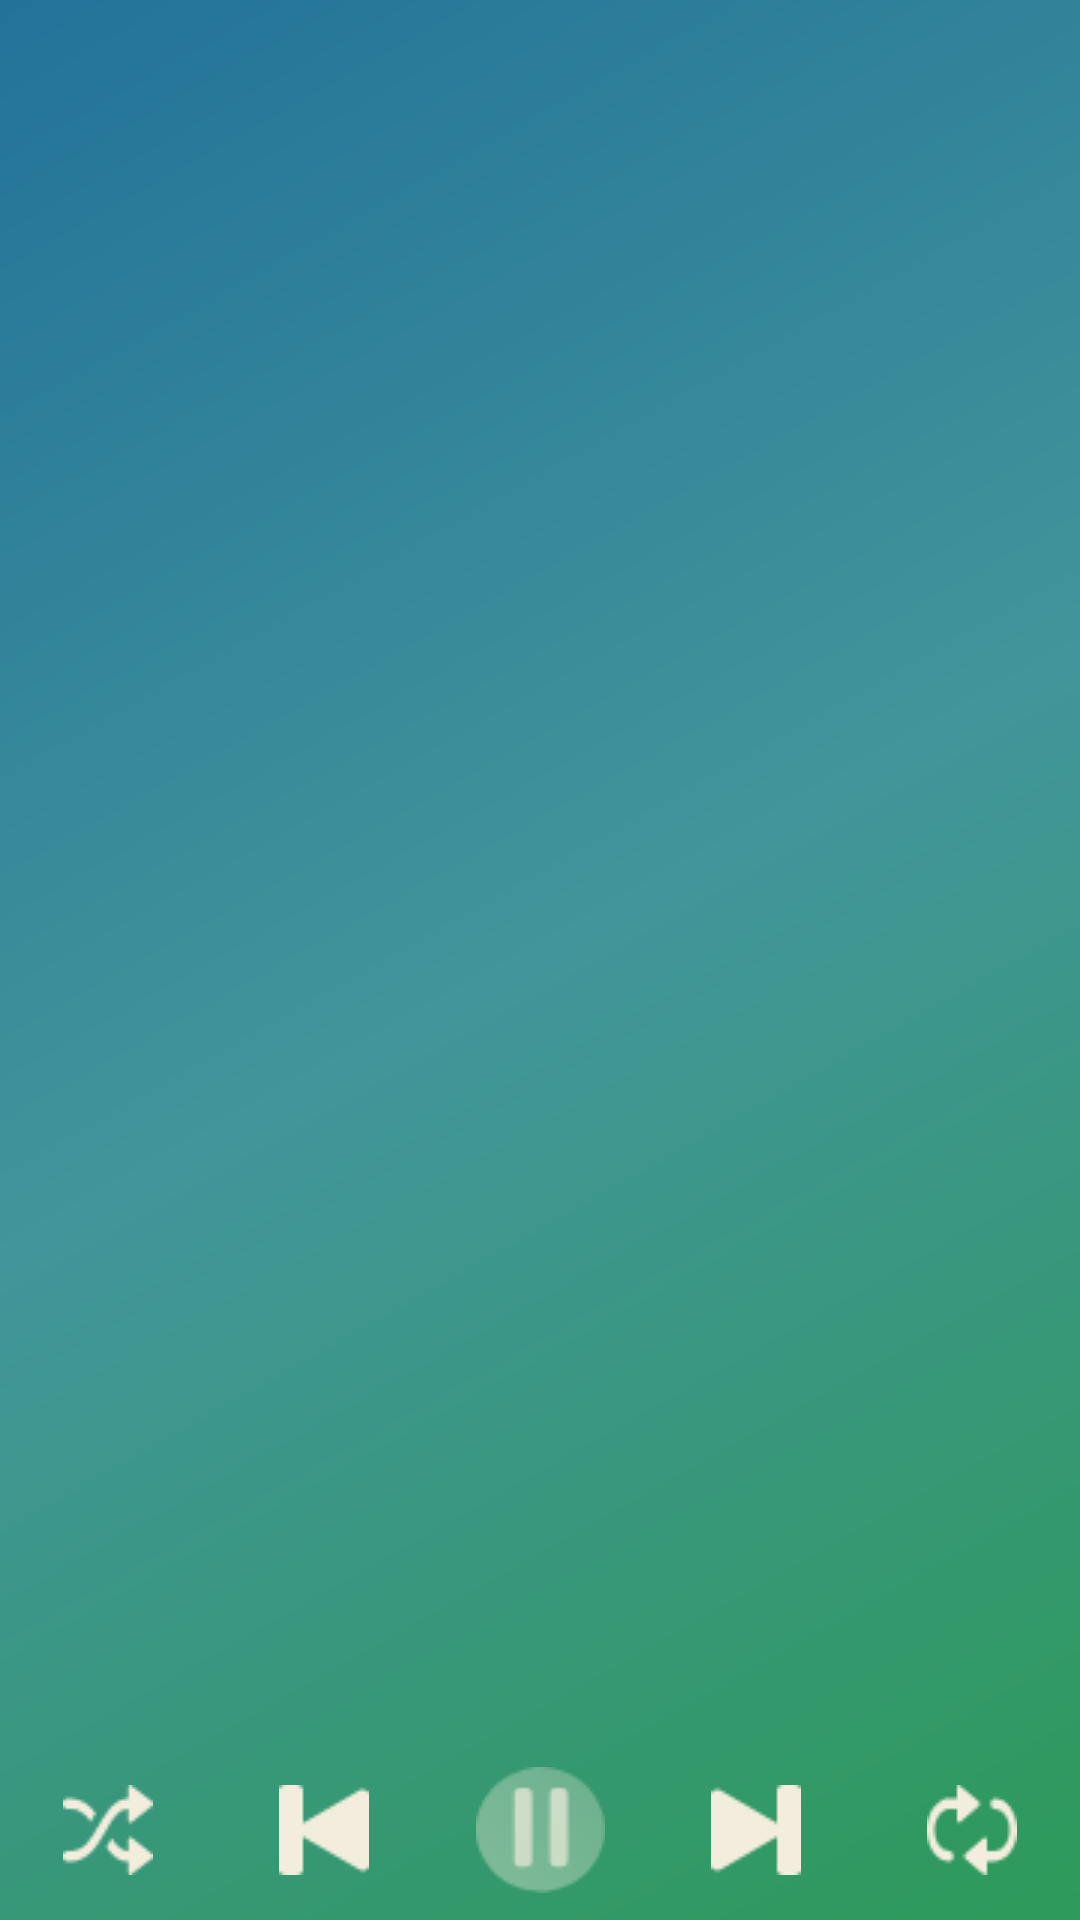

Named icons in this screenshot (1080x1920) and their centers, [x,y]:
next: [756,1830]
pause: [540,1830]
pre: [324,1830]
repeat: [972,1830]
shuf: [108,1830]
